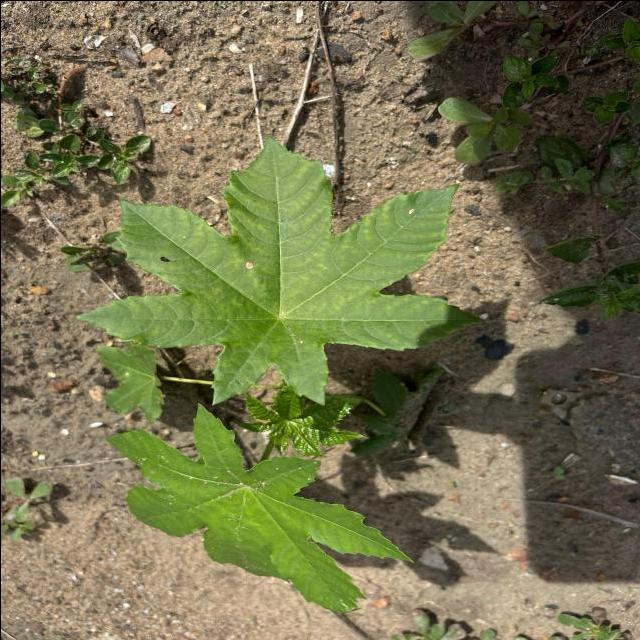Ricinus communis linn: (68, 131, 488, 410), (100, 400, 415, 617)
